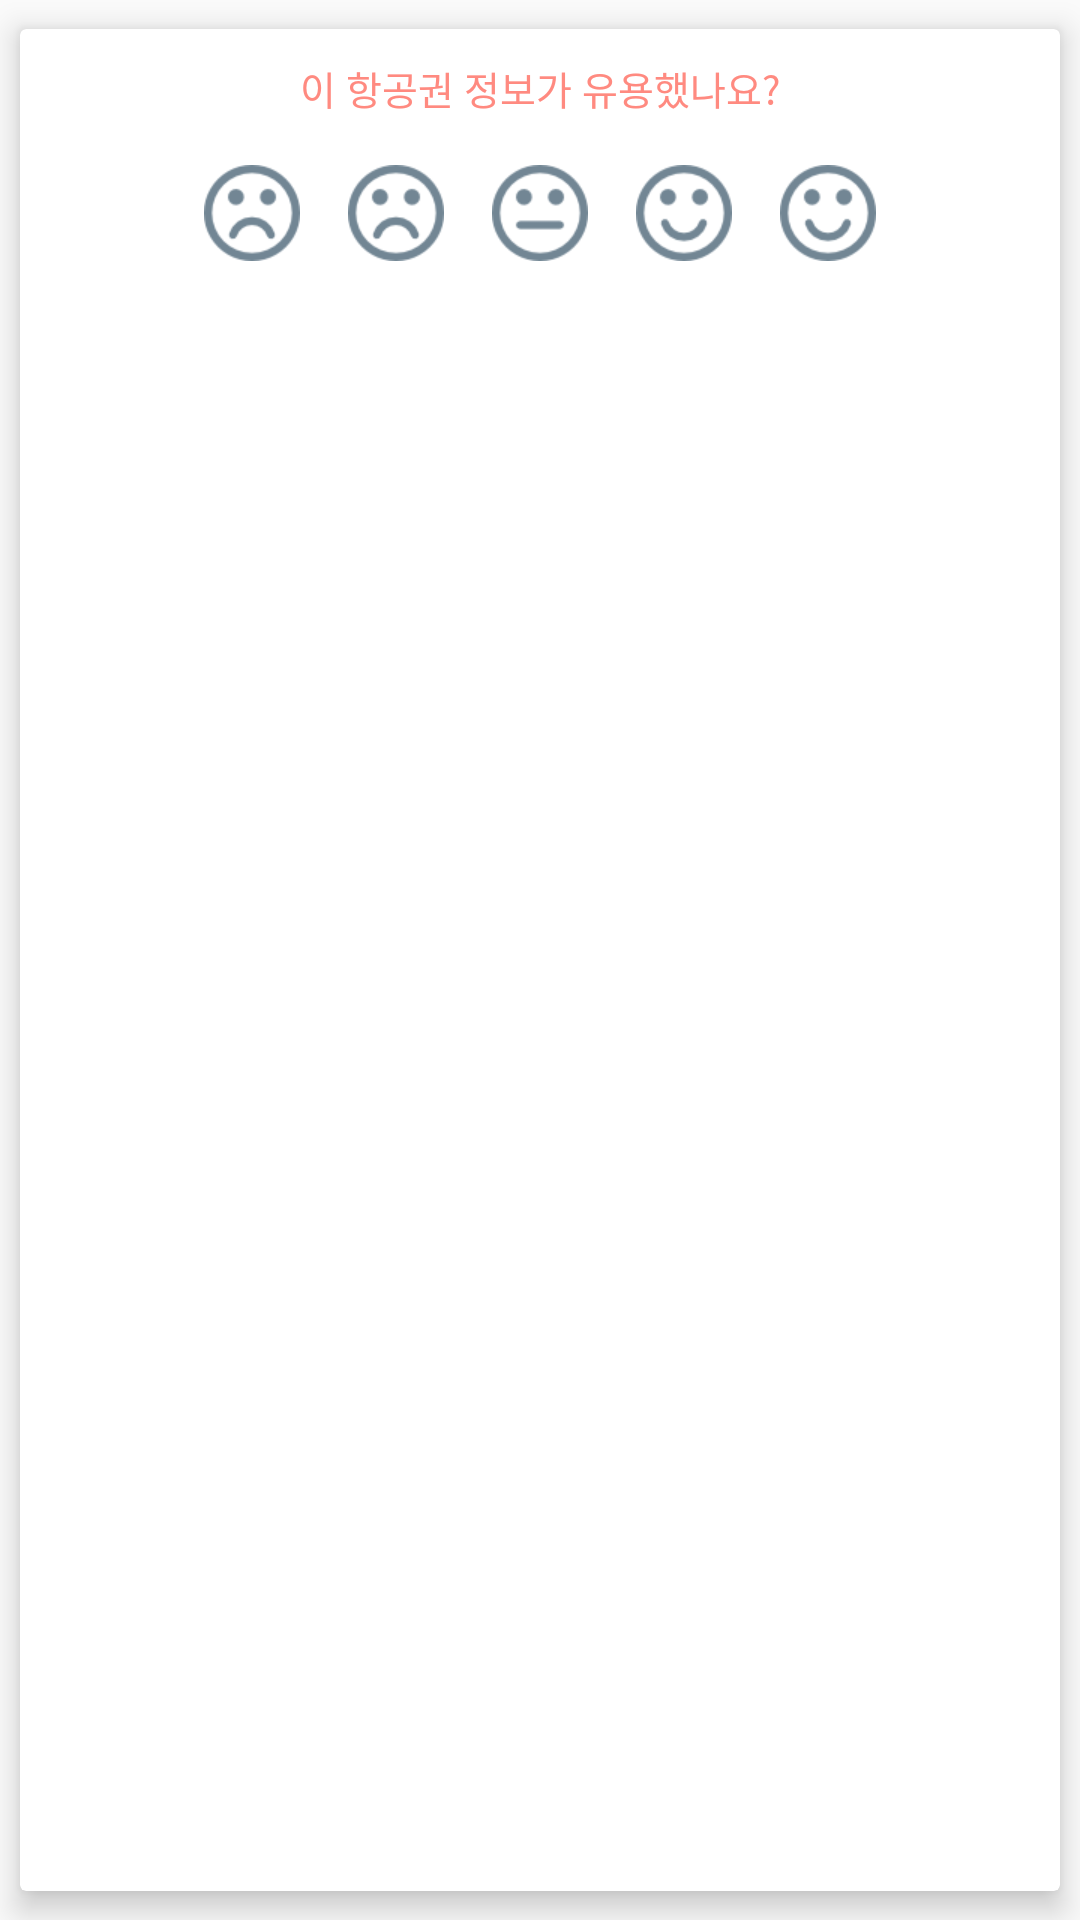

Locate icon controls on the screen. Image size 1080px×1920px, boxes as [x1=x1, y1=y1, x2=x2, y2=y2].
bad: [x1=204, y1=165, x2=300, y2=261], [x1=348, y1=165, x2=444, y2=261]
good: [x1=636, y1=165, x2=732, y2=261], [x1=780, y1=165, x2=876, y2=261]
soso: [x1=492, y1=165, x2=588, y2=261]
